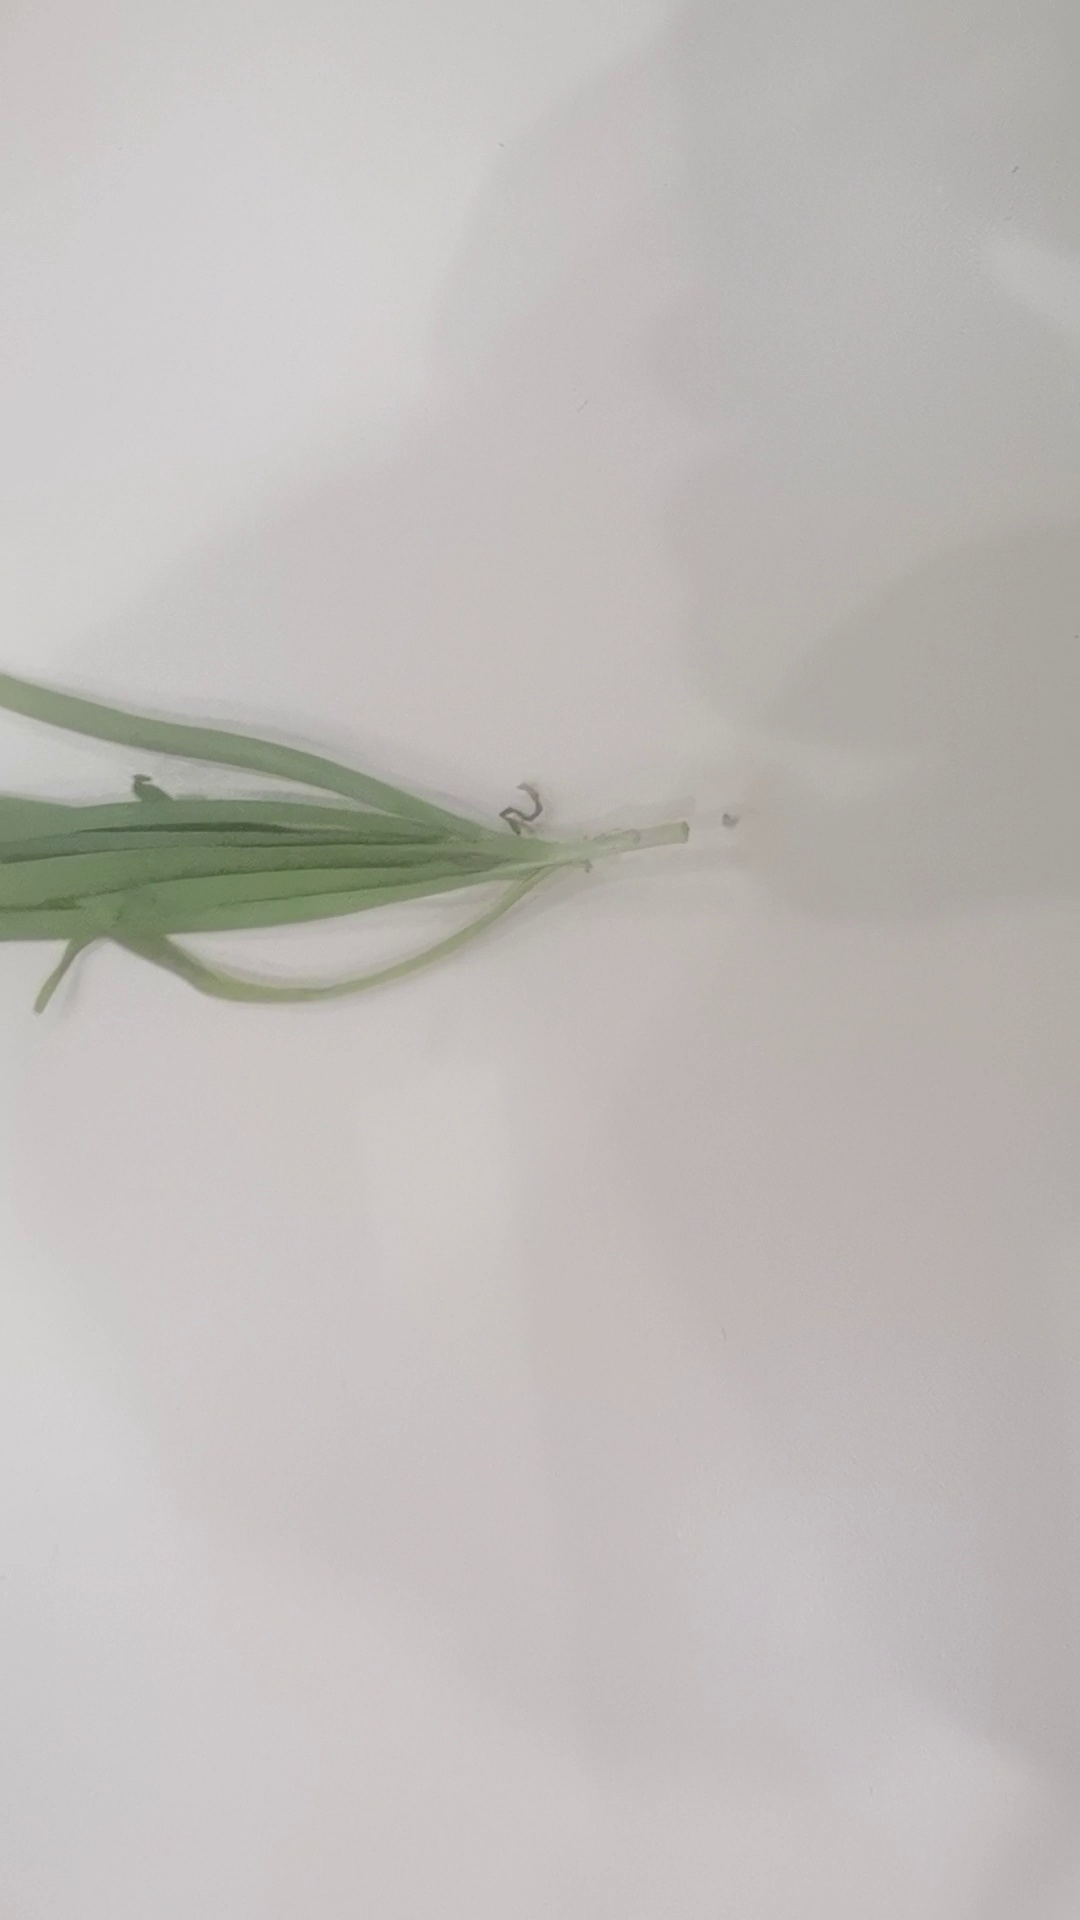chives: (7, 659, 687, 1011)
